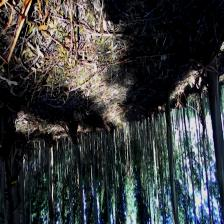trunk: (207, 57, 223, 206), (1, 107, 20, 224), (165, 92, 178, 218), (69, 123, 85, 221), (90, 128, 99, 221)
